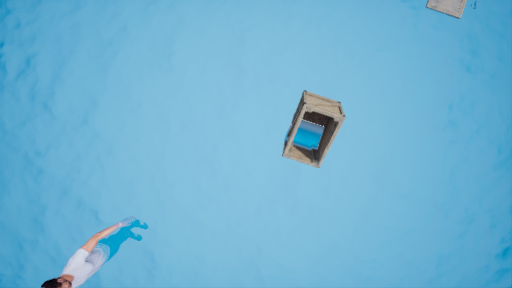person: (29, 214, 166, 288)
